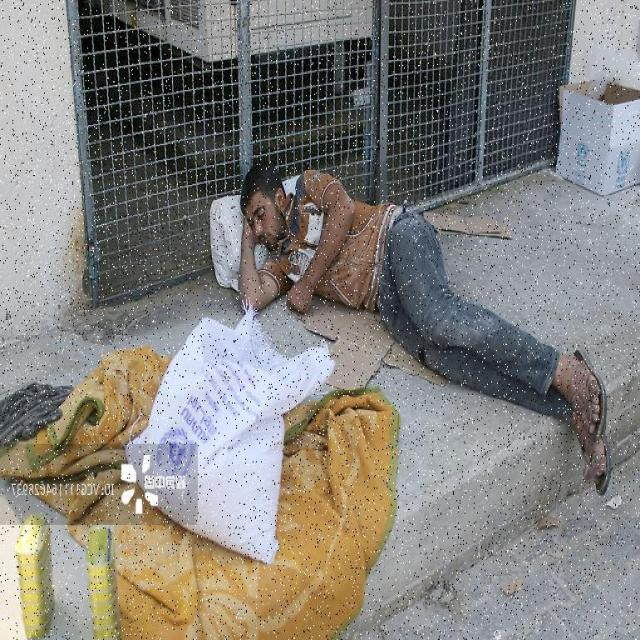fall: (242, 157, 615, 498)
